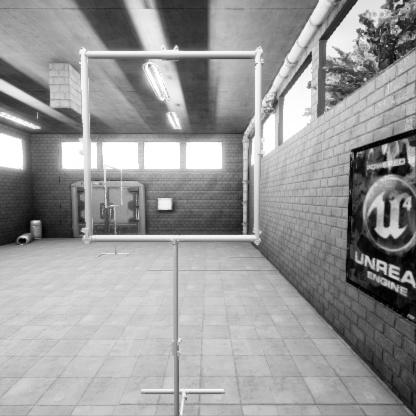gate: (81, 181, 279, 377), (104, 210, 122, 253)
